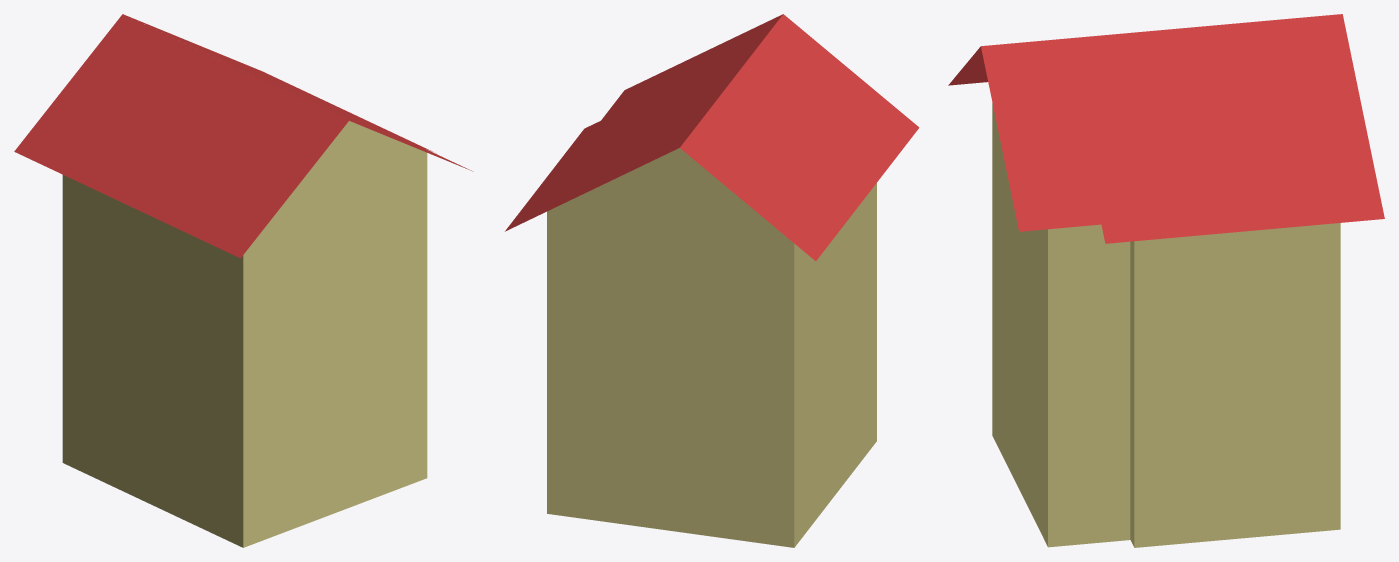
3 views of the same model, side by side, from view 1: azimuth 30°, elevation 25°; view 2: azimuth 150°, elevation 25°; view 3: azimuth 270°, elevation 25° (orthographic). The views are drawn at different scales.
Bounding box in the file's own units: 8.3 × 8.74 × 9.78.
